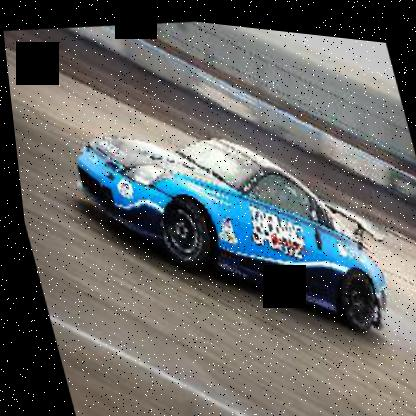not_emergency: (24, 65, 406, 351)
